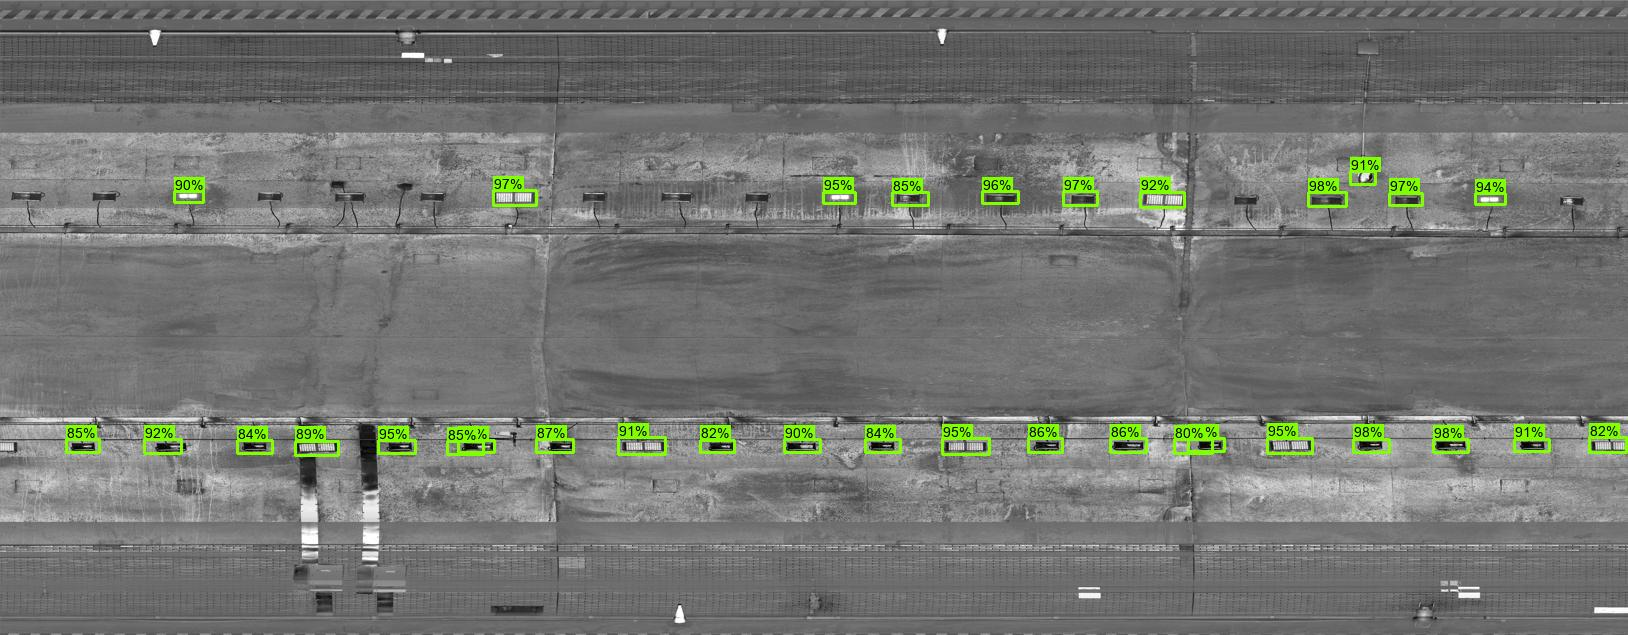light: (939, 436, 991, 455), (489, 187, 538, 208), (619, 435, 668, 455), (1265, 435, 1315, 454), (292, 438, 341, 458), (1137, 190, 1188, 209), (1585, 436, 1628, 454), (1433, 435, 1470, 453), (1514, 436, 1551, 454), (1308, 191, 1345, 209), (1388, 192, 1424, 210), (1554, 192, 1591, 210), (982, 189, 1017, 206), (892, 189, 927, 206), (1028, 436, 1063, 453), (1109, 437, 1144, 454), (1195, 435, 1230, 452), (1354, 436, 1389, 453), (1065, 190, 1100, 208), (154, 439, 191, 454), (238, 439, 275, 454), (458, 439, 495, 454), (543, 439, 580, 454), (704, 438, 741, 453), (783, 438, 820, 453), (864, 438, 901, 453), (1229, 192, 1264, 209), (9, 188, 46, 203), (88, 189, 125, 204), (63, 439, 100, 454), (254, 188, 291, 203), (332, 189, 369, 204), (384, 439, 420, 454), (413, 190, 450, 205), (577, 189, 614, 204), (659, 189, 696, 204), (738, 189, 775, 204), (1474, 193, 1503, 206), (827, 189, 856, 202), (177, 191, 207, 202), (1, 439, 20, 454)
